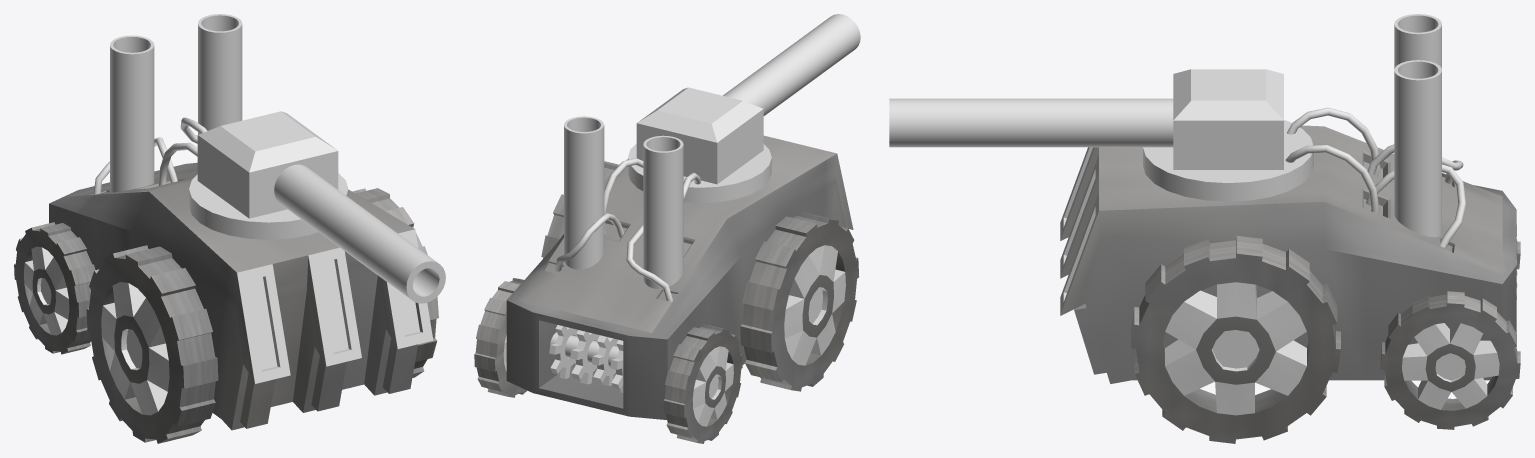
File: Tank1.fbx
The picture shows the model from 3 angles, left to right: view 1: azimuth 30°, elevation 25°; view 2: azimuth 150°, elevation 25°; view 3: azimuth 270°, elevation 25°; orthographic projection. The views are drawn at different scales.
Parts seen in each view (by area): view 1: Cube.006, Cylinder.022, Cube.007, Cylinder.020, Cylinder.043, Cylinder.042, Cylinder.023, Cylinder.021, Cube.011, Cube.009; view 2: Cube.006, Cylinder.022, Cube.007, Cylinder.020, Cylinder.043, Cylinder.042, Cylinder.019, Cylinder.023, Cylinder.047, Cylinder.044, Cylinder.021, Cylinder.046 (+5 smaller); view 3: Cube.006, Cylinder.021, Cube.007, Cylinder.019, Cylinder.042, Cylinder.023, Cylinder.043, Cube.008, Cube.009, Cube.010.
Part boxes in pixels (x1,y1,x2,y2): Cube.006: [49, 162, 433, 430]; Cylinder.022: [86, 245, 218, 443]; Cube.007: [197, 111, 445, 303]; Cylinder.020: [14, 222, 95, 354]; Cylinder.043: [110, 35, 154, 192]; Cylinder.042: [198, 14, 242, 134]; Cylinder.023: [189, 173, 348, 239]; Cylinder.021: [352, 188, 438, 377]; Cube.011: [93, 137, 177, 194]; Cube.009: [158, 142, 197, 185]; Cube.006: [506, 135, 853, 419]; Cylinder.022: [740, 211, 858, 391]; Cube.007: [636, 14, 860, 184]; Cylinder.020: [663, 324, 742, 443]; Cylinder.043: [643, 135, 683, 291]; Cylinder.042: [564, 116, 604, 269]; Cylinder.019: [474, 278, 527, 397]; Cylinder.023: [628, 143, 771, 203]; Cylinder.047: [570, 330, 599, 384]; Cylinder.044: [549, 325, 578, 378]; Cylinder.021: [541, 161, 618, 258]; Cylinder.046: [591, 335, 618, 385]; Cube.006: [1060, 125, 1516, 383]; Cylinder.021: [1131, 236, 1340, 443]; Cube.007: [889, 69, 1283, 169]; Cylinder.019: [1380, 291, 1520, 429]; Cylinder.042: [1394, 60, 1441, 237]; Cylinder.023: [1143, 120, 1313, 201]; Cylinder.043: [1394, 14, 1441, 69]; Cube.008: [1285, 145, 1379, 213]; Cube.009: [1287, 107, 1380, 176]; Cube.010: [1366, 164, 1466, 247].
Bounding box in the file's own units: 244 × 275 × 473.
